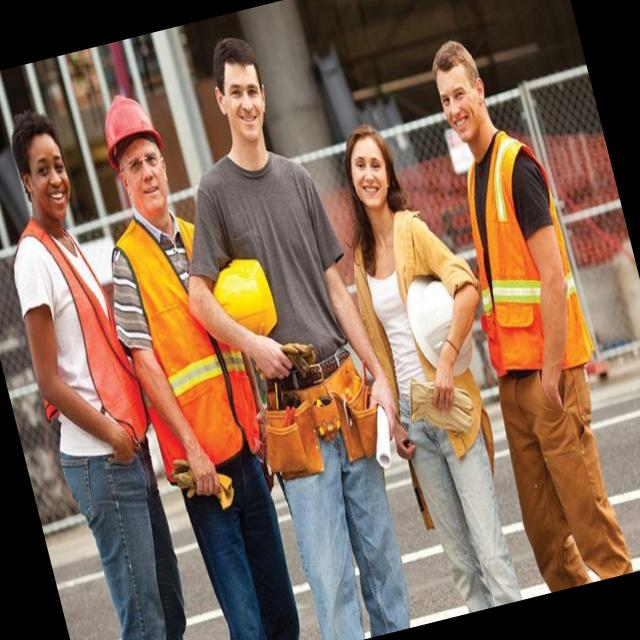goggles: (104, 138, 172, 194)
helmet: (92, 85, 168, 173)
no-goggles: (429, 70, 489, 118), (212, 70, 274, 116), (18, 150, 74, 197), (338, 146, 394, 188)
no-helmet: (330, 115, 395, 179), (201, 27, 268, 84), (1, 104, 61, 162), (422, 31, 479, 83)
no-vest: (198, 137, 356, 415), (339, 200, 463, 394)
vest: (436, 132, 598, 402), (0, 212, 140, 460), (112, 214, 242, 468)
